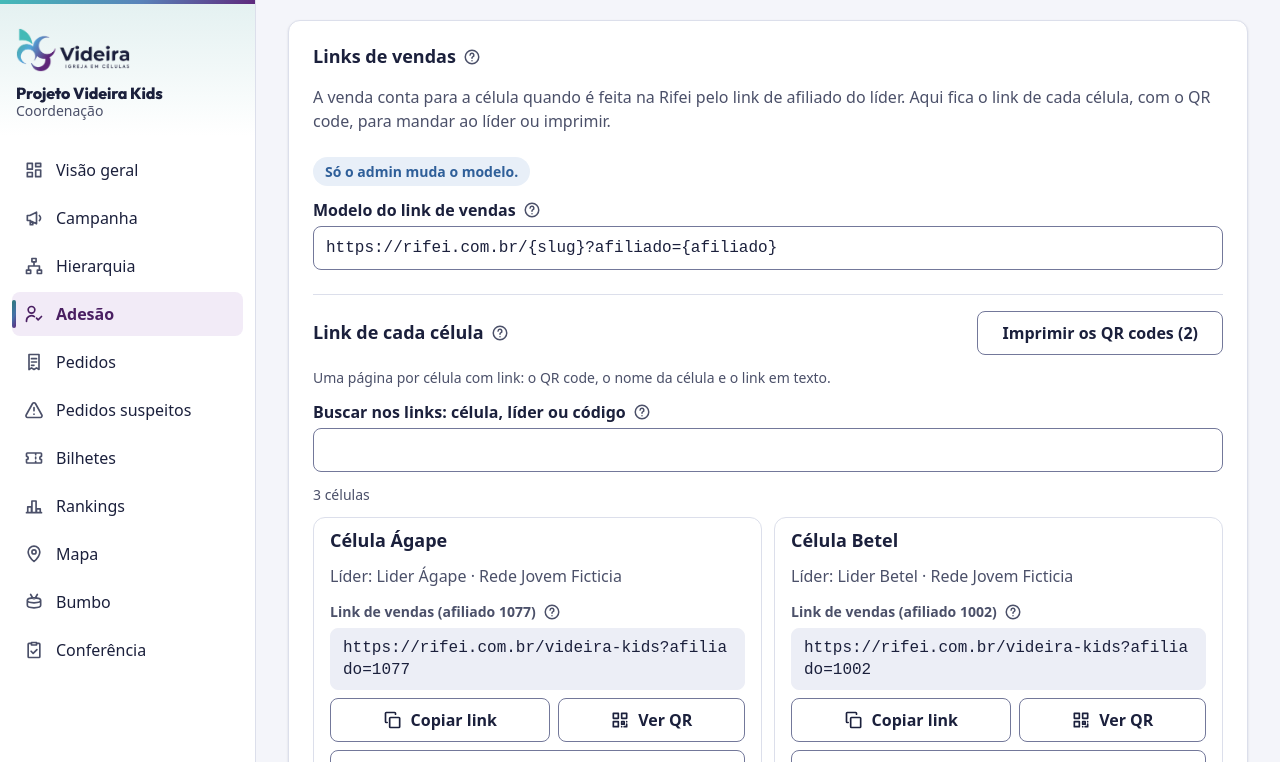
CA3: o link e o QR code de cada célula › a busca filtra as células pelo nome, pelo líder ou pelo código
(page scrolled)
Type "betel" into the search field labelled "Buscar nos links: célula, líder ou código".
click(768, 450); type("betel")  # box left=313, top=428, right=1223, bottom=472
(page scrolled)
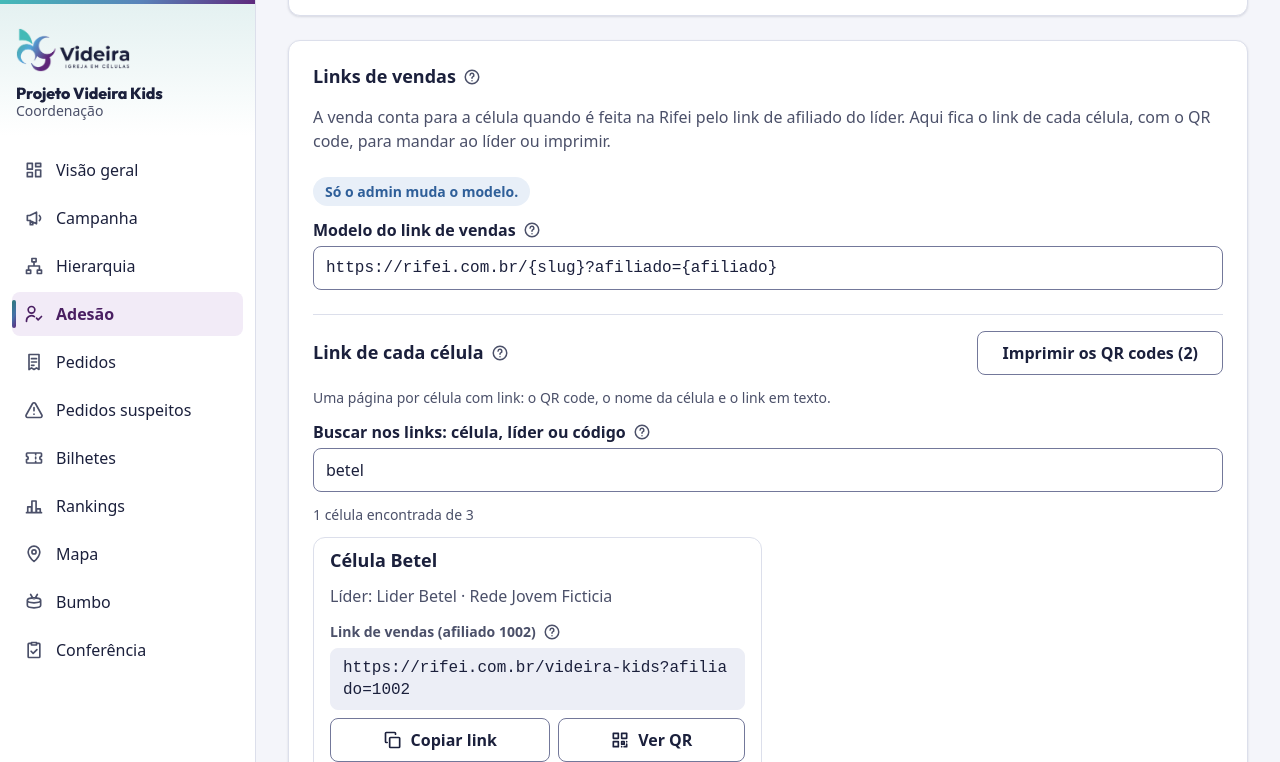
Expected: the headings read "Célula Betel", in this order, left=330, top=548, right=437, bottom=572
Replace the text in the search field labelled "Buscar nos links: célula, líder ou código" with "1077" at (768, 470), box left=313, top=448, right=1223, bottom=492
(page scrolled)
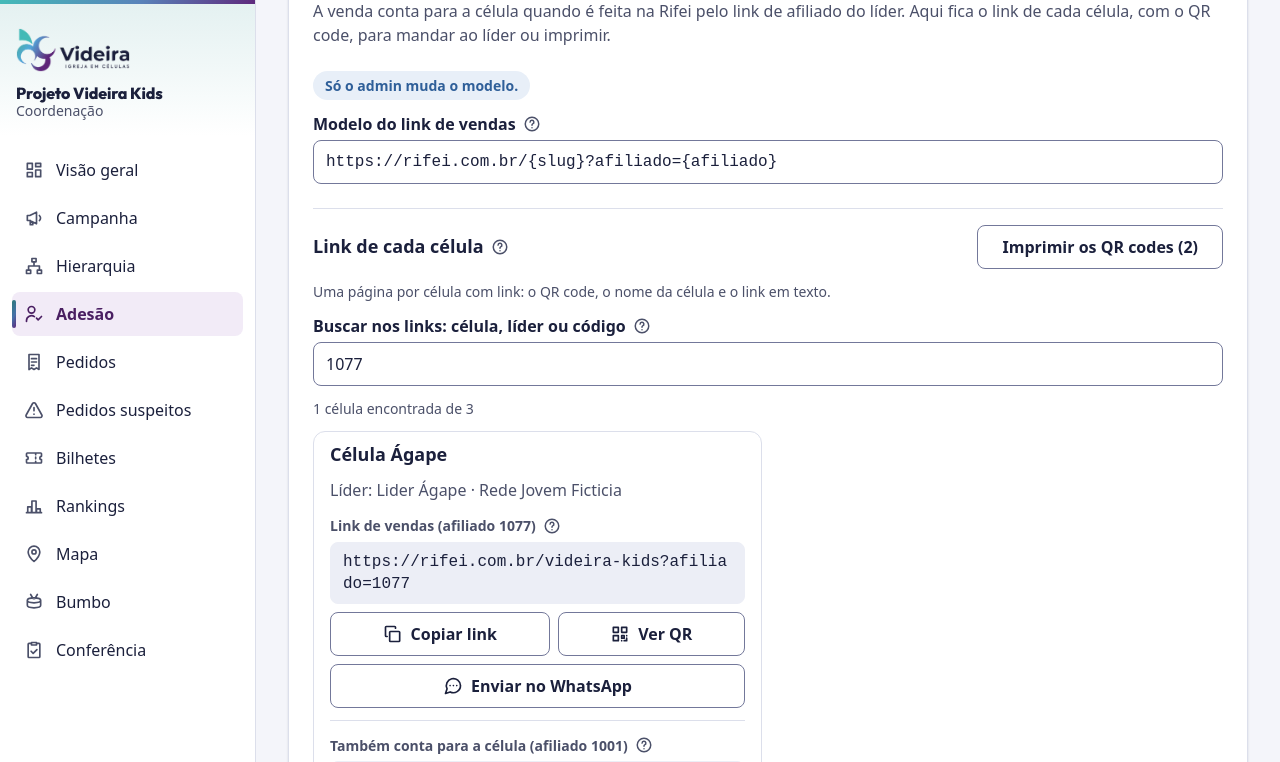
Expected: the element "Links de vendas" shows "1 célula encontrada de 3", left=313, top=399, right=474, bottom=418
Expected: the headings read "Célula Ágape", in this order, left=330, top=442, right=447, bottom=466
